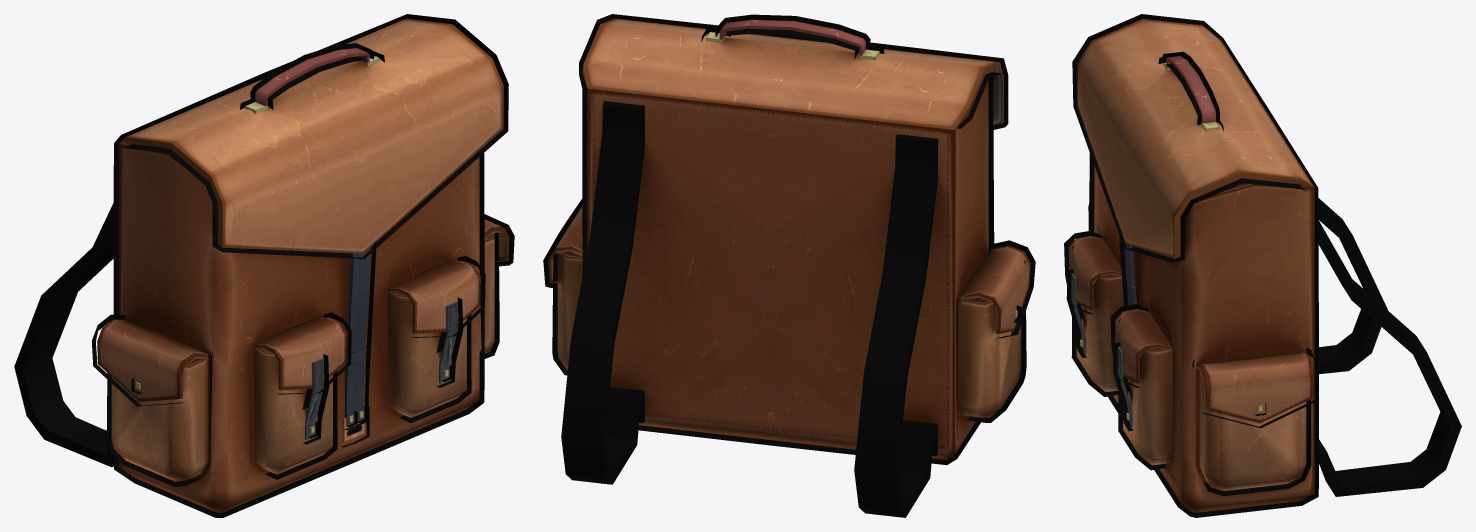
Rendered from Bag 3.fbx.
The picture shows the model from 3 angles, left to right: view 1: azimuth 30°, elevation 25°; view 2: azimuth 150°, elevation 25°; view 3: azimuth 270°, elevation 25°; orthographic projection. The views are drawn at different scales.
Parts seen in each view (by area): view 1: Bag 3; view 2: Bag 3; view 3: Bag 3.
Boxes of the visible parts, x1,y1,x2,y2 form: Bag 3: (14,14,514,517); Bag 3: (543,14,1035,517); Bag 3: (1064,14,1461,517).
Bounding box in the file's own units: 45.1 × 38.63 × 39.93.
